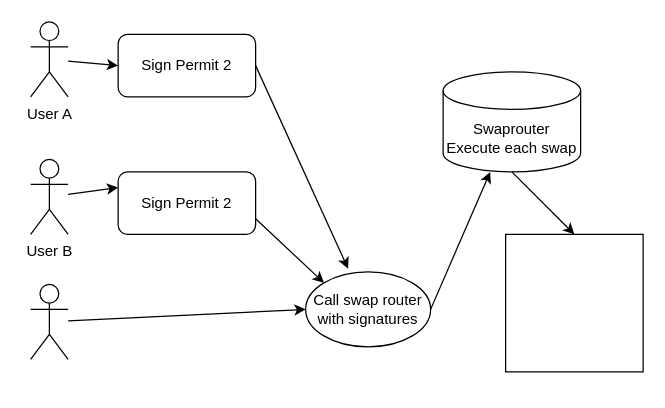
The diagram is 665 pixels wide and 408 high, and some of its shapes have lost their labels. Here are the shapes that lost their labels. From the top down, the centre of each, then its label:
[48,321]: Sponsor
[573,302]: Hook calculates fees swap
